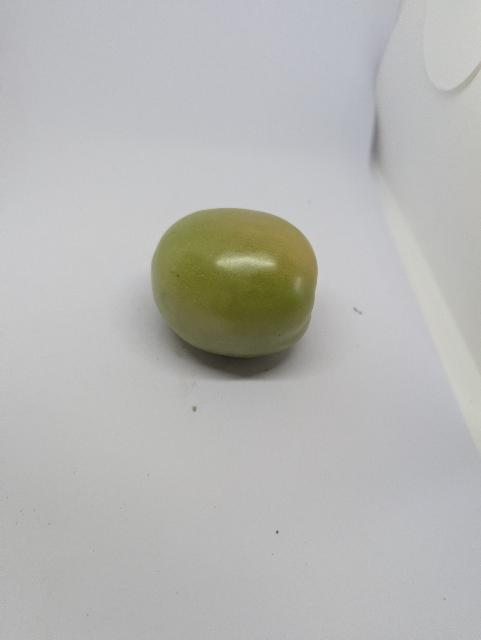green: (128, 199, 344, 376)
